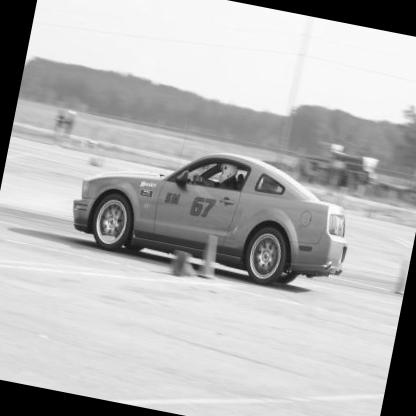car: (54, 127, 366, 310)
